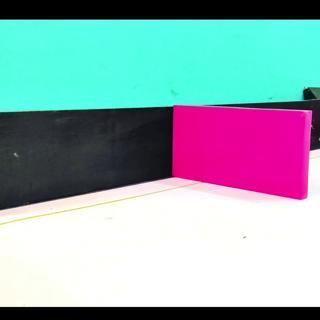xparking: (184, 116, 306, 195)
